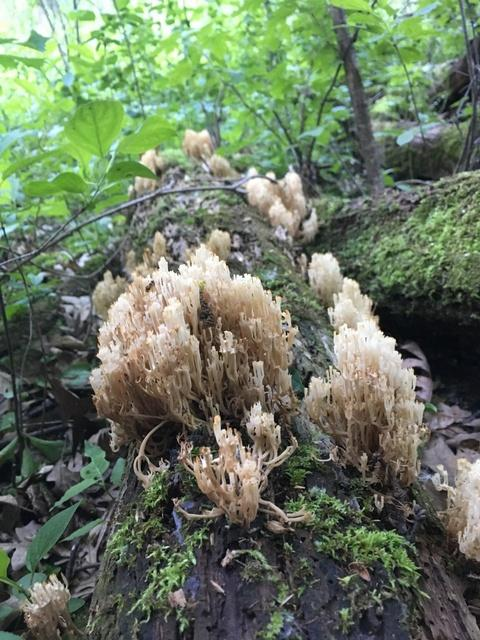edible_mushroom: (87, 129, 432, 531), (88, 239, 303, 530), (303, 277, 431, 488), (172, 404, 301, 532), (244, 165, 318, 244), (396, 339, 433, 404), (127, 146, 164, 199), (181, 127, 213, 163)
